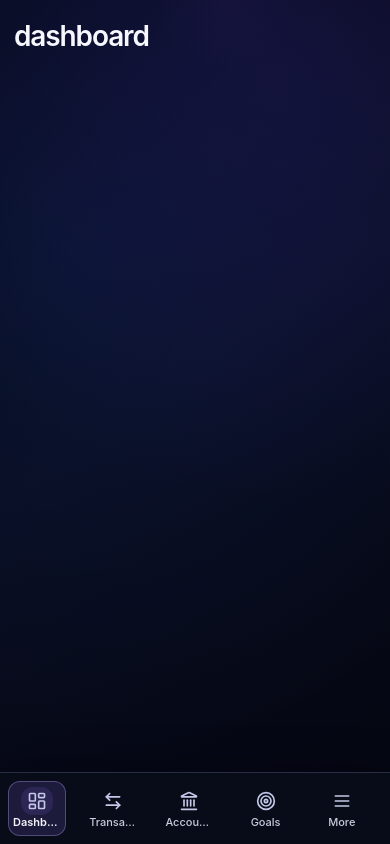
Scenario: ApplicationShell navigation › navigates from More and moves focus to the main content
Click the button "More" at (342, 808), box top-left (313, 781), bottom-right (371, 836)
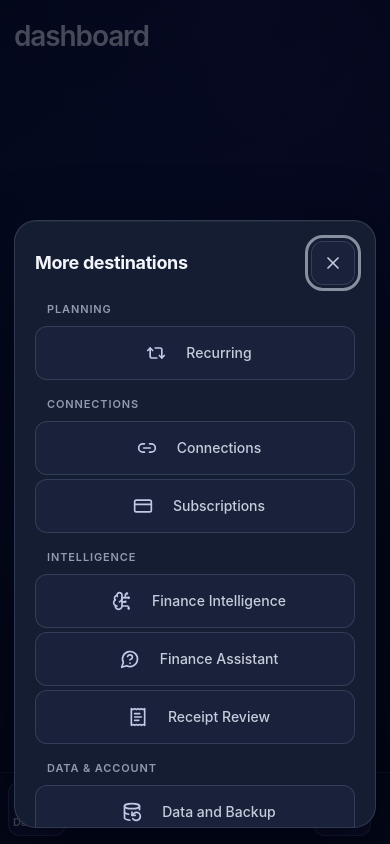
Click the button with aria-label "Recurring payments" at (195, 353), box top-left (35, 326), bottom-right (355, 380)
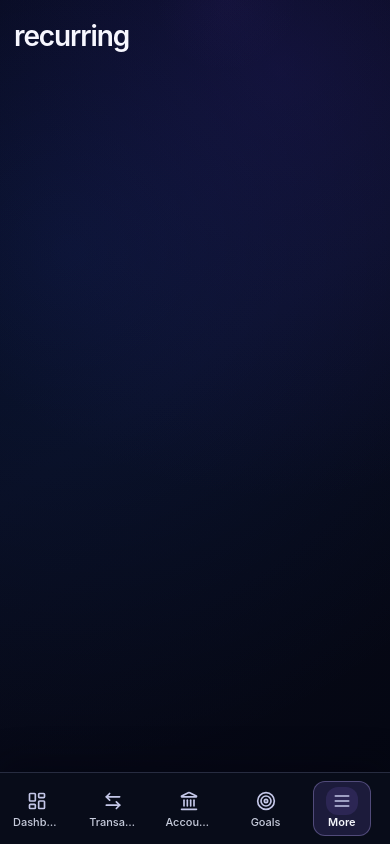
Expected: the heading "recurring" is shown, top-left (14, 19), bottom-right (129, 53)
Expected: the heading "More destinations" is gone
